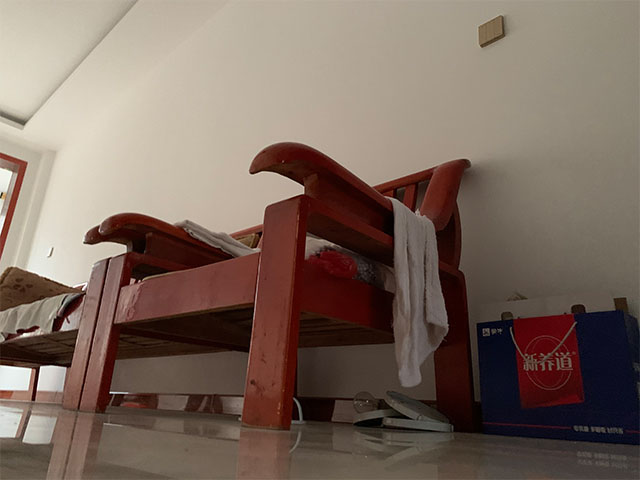sofa: (1, 141, 480, 432)
